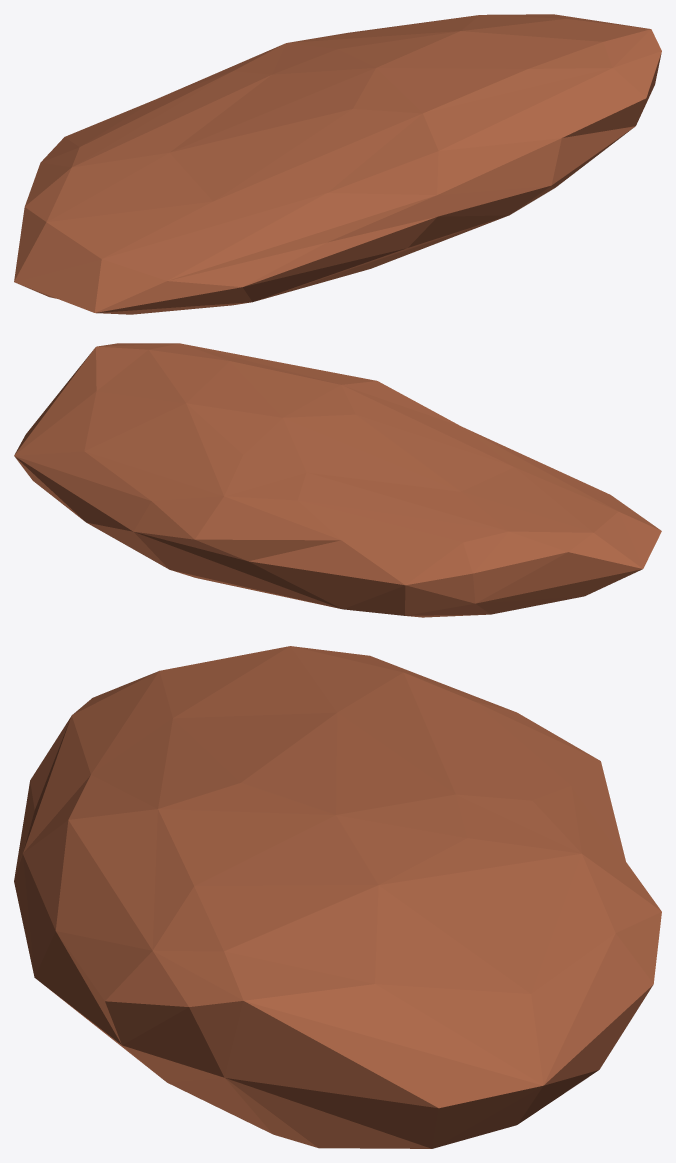
File: flat_rock1.glb
The picture shows the model from 3 angles, top to bottom: view 1: azimuth 30°, elevation 25°; view 2: azimuth 150°, elevation 25°; view 3: azimuth 270°, elevation 25°; orthographic projection. The views are drawn at different scales.
Visible parts, largest first — view 1: Flat_rock1; view 2: Flat_rock1; view 3: Flat_rock1.
Boxes of the visible parts, left/top/right/bottom form: Flat_rock1: left=14, top=14, right=661, bottom=314; Flat_rock1: left=14, top=343, right=661, bottom=617; Flat_rock1: left=14, top=646, right=661, bottom=1148.
Size of the model in its own units: 19.51 by 4.54 by 10.76.
